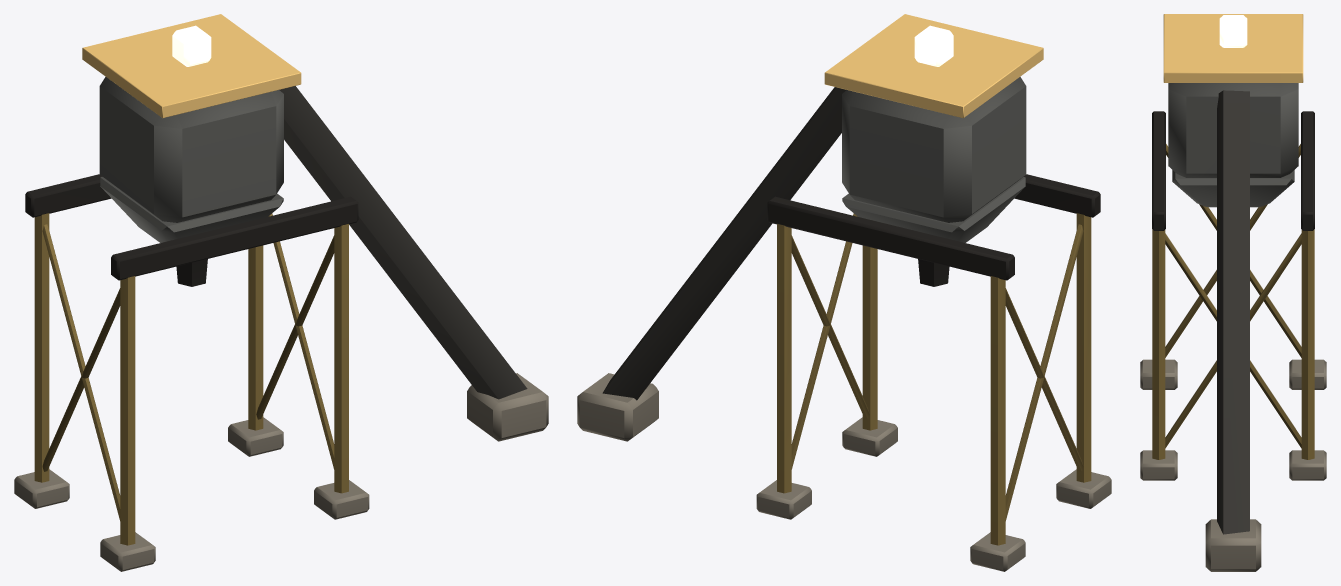
Rendered from train_loader.glb.
The picture shows the model from 3 angles, left to right: view 1: azimuth 30°, elevation 25°; view 2: azimuth 150°, elevation 25°; view 3: azimuth 270°, elevation 25°; orthographic projection. The views are drawn at different scales.
Parts seen in each view (by area): view 1: Loader; view 2: Loader; view 3: Loader.
Part boxes in pixels (x1,y1,x2,y2): Loader: (14,14,548,571); Loader: (577,14,1111,571); Loader: (1140,14,1326,571).
Size of the model in its own units: 2.22 by 2.13 by 0.88.
